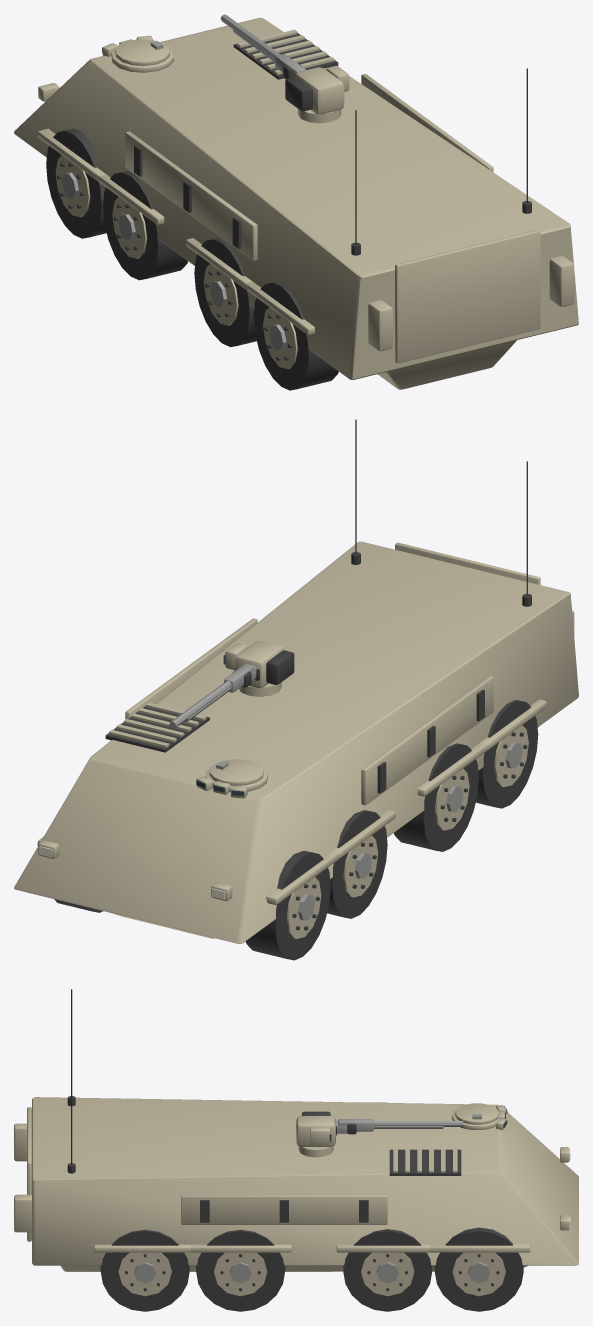
The model's file is rus_apc_boom.glb.
3 views of the same model, one above another, from view 1: azimuth 30°, elevation 25°; view 2: azimuth 150°, elevation 25°; view 3: azimuth 270°, elevation 25° (orthographic). The views are drawn at different scales.
Parts seen in each view (by area): view 1: body, wheel_2, wheel_6, wheel_0, wheel_4, turret, barrel; view 2: body, wheel_0, wheel_4, wheel_6, wheel_2, turret, barrel; view 3: body, wheel_1, wheel_3, wheel_5, wheel_7, turret, barrel.
Part boxes in pixels (box(x1,y1,x2,y2)): body: box(14, 17, 578, 389); wheel_2: box(103, 171, 187, 280); wheel_6: box(253, 282, 338, 390); wheel_0: box(46, 128, 106, 238); wheel_4: box(194, 238, 256, 347); turret: box(233, 29, 349, 123); barrel: box(220, 14, 305, 79); body: box(14, 419, 578, 943); wheel_0: box(245, 851, 330, 960); wheel_4: box(394, 743, 478, 851); wheel_6: box(475, 700, 538, 808); wheel_2: box(327, 810, 387, 918); turret: box(184, 641, 294, 722); barrel: box(169, 663, 254, 728); body: box(14, 989, 578, 1271); wheel_1: box(434, 1227, 523, 1311); wheel_3: box(343, 1229, 432, 1311); wheel_5: box(196, 1229, 285, 1311); wheel_7: box(100, 1229, 189, 1311); turret: box(296, 1111, 443, 1157); barrel: box(338, 1119, 463, 1134).
Bounding box in the file's own units: 2.88 × 3.38 × 7.1.
